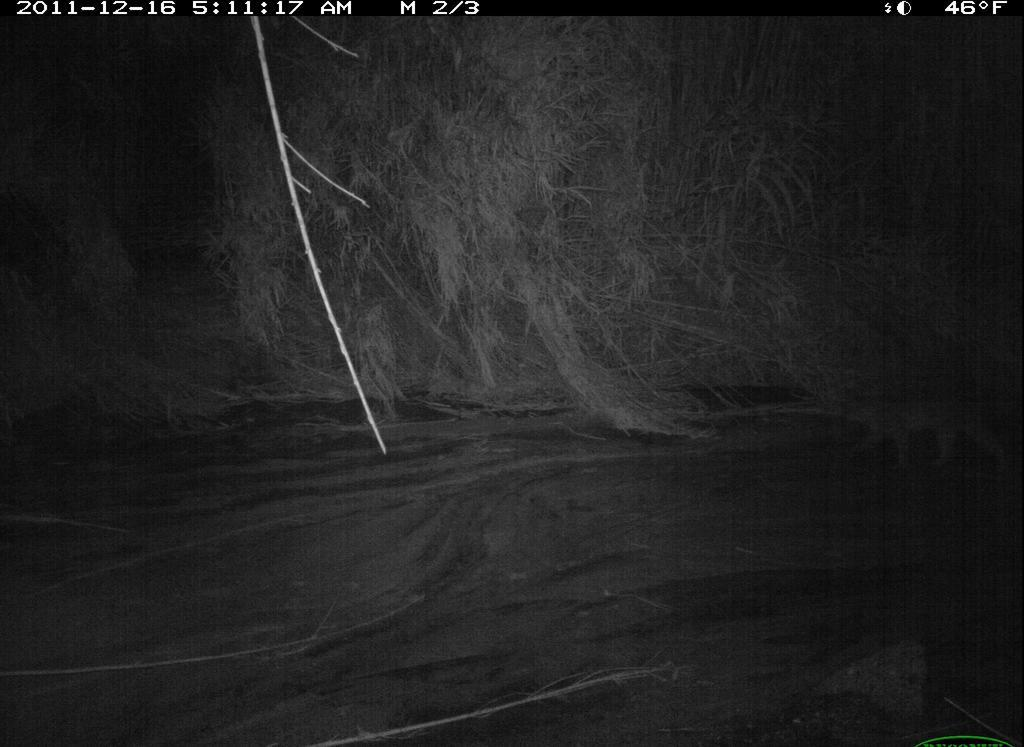bobcat: (838, 387, 1022, 477)
